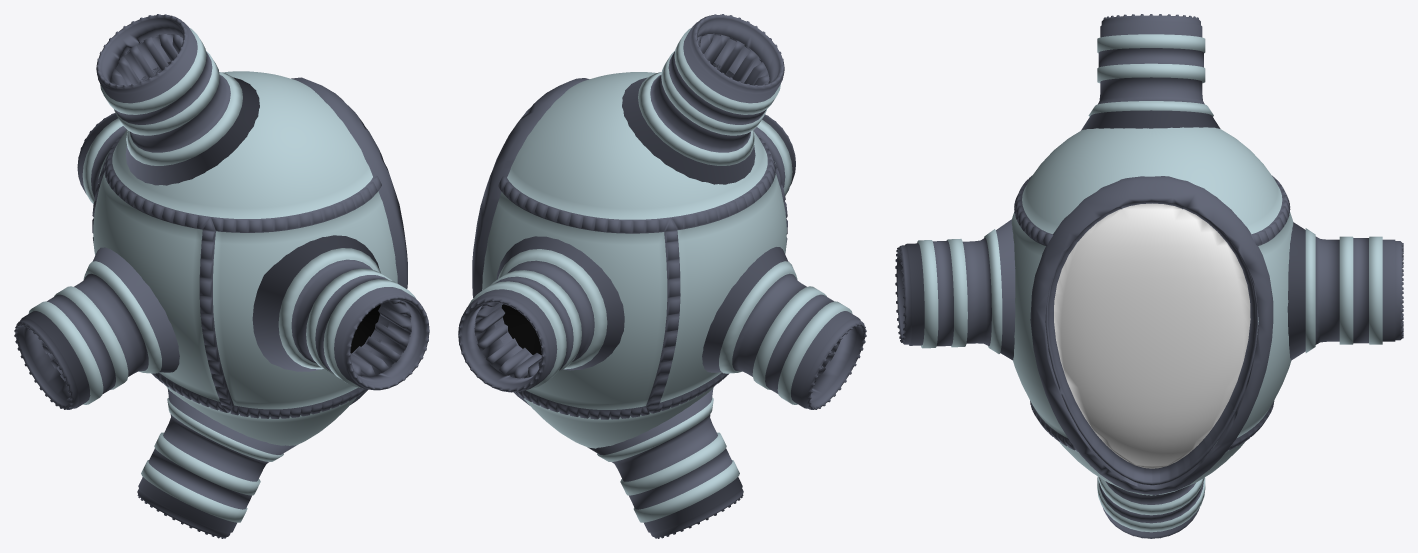
The model's file is facebot.glb.
3 renders of one model, left to right at view 1: azimuth 30°, elevation 25°; view 2: azimuth 150°, elevation 25°; view 3: azimuth 270°, elevation 25°, orthographic. The views are drawn at different scales.
Visible parts, largest first — view 1: Sphere.001, rocket, rocket.002, rocket.004, rocket.003, Plane.001, rocket.001; view 2: Sphere.001, rocket.001, rocket.002, rocket.004, rocket.003, Plane.001, rocket; view 3: Sphere.001, Plane.001, rocket, rocket.001, rocket.002, rocket.003.
Part boxes in pixels (x1,y1,x2,y2): Sphere.001: (92, 71, 397, 445); rocket: (252, 235, 429, 390); rocket.002: (96, 14, 259, 185); rocket.004: (14, 247, 179, 409); rocket.003: (137, 388, 298, 538); Plane.001: (291, 77, 407, 404); rocket.001: (77, 113, 126, 203); Sphere.001: (482, 72, 787, 448); rocket.001: (458, 236, 624, 392); rocket.002: (622, 14, 784, 184); rocket.004: (702, 247, 866, 409); rocket.003: (587, 388, 743, 538); Plane.001: (472, 78, 589, 405); rocket: (753, 114, 795, 195); Sphere.001: (1011, 127, 1293, 489); Plane.001: (1030, 176, 1273, 494); rocket: (895, 219, 1015, 360); rocket.001: (1287, 222, 1403, 360); rocket.002: (1081, 14, 1220, 130); rocket.003: (1097, 476, 1205, 538).
Bounding box in the file's own units: 2.4 × 3.65 × 3.33.
